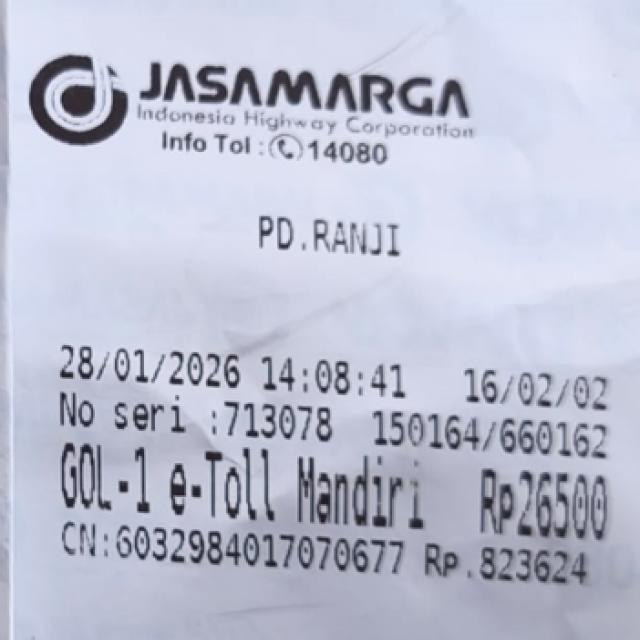date: (56, 346, 404, 400), (476, 465, 616, 548)
store: (126, 61, 485, 145)
